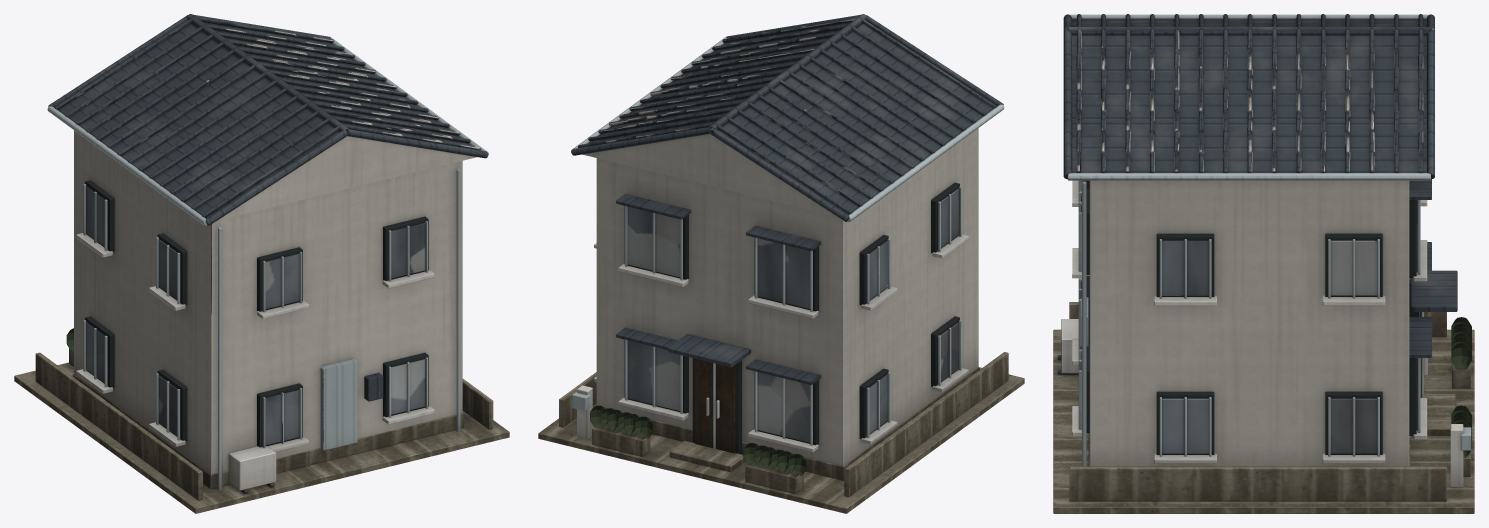
Rendered from residential_011.obj.
3 views of the same model, side by side, from view 1: azimuth 30°, elevation 25°; view 2: azimuth 150°, elevation 25°; view 3: azimuth 270°, elevation 25° (orthographic). The views are drawn at different scales.
Visible parts, largest first — view 1: residential_011; view 2: residential_011; view 3: residential_011.
Part boxes in pixels (x1=…): residential_011: x1=14, y1=14, x2=509, y2=513; residential_011: x1=538, y1=14, x2=1024, y2=513; residential_011: x1=1053, y1=14, x2=1474, y2=513.
Size of the model in its own units: 7.25 by 7.56 by 7.25.
Materials: 1 (1 with a texture image).
